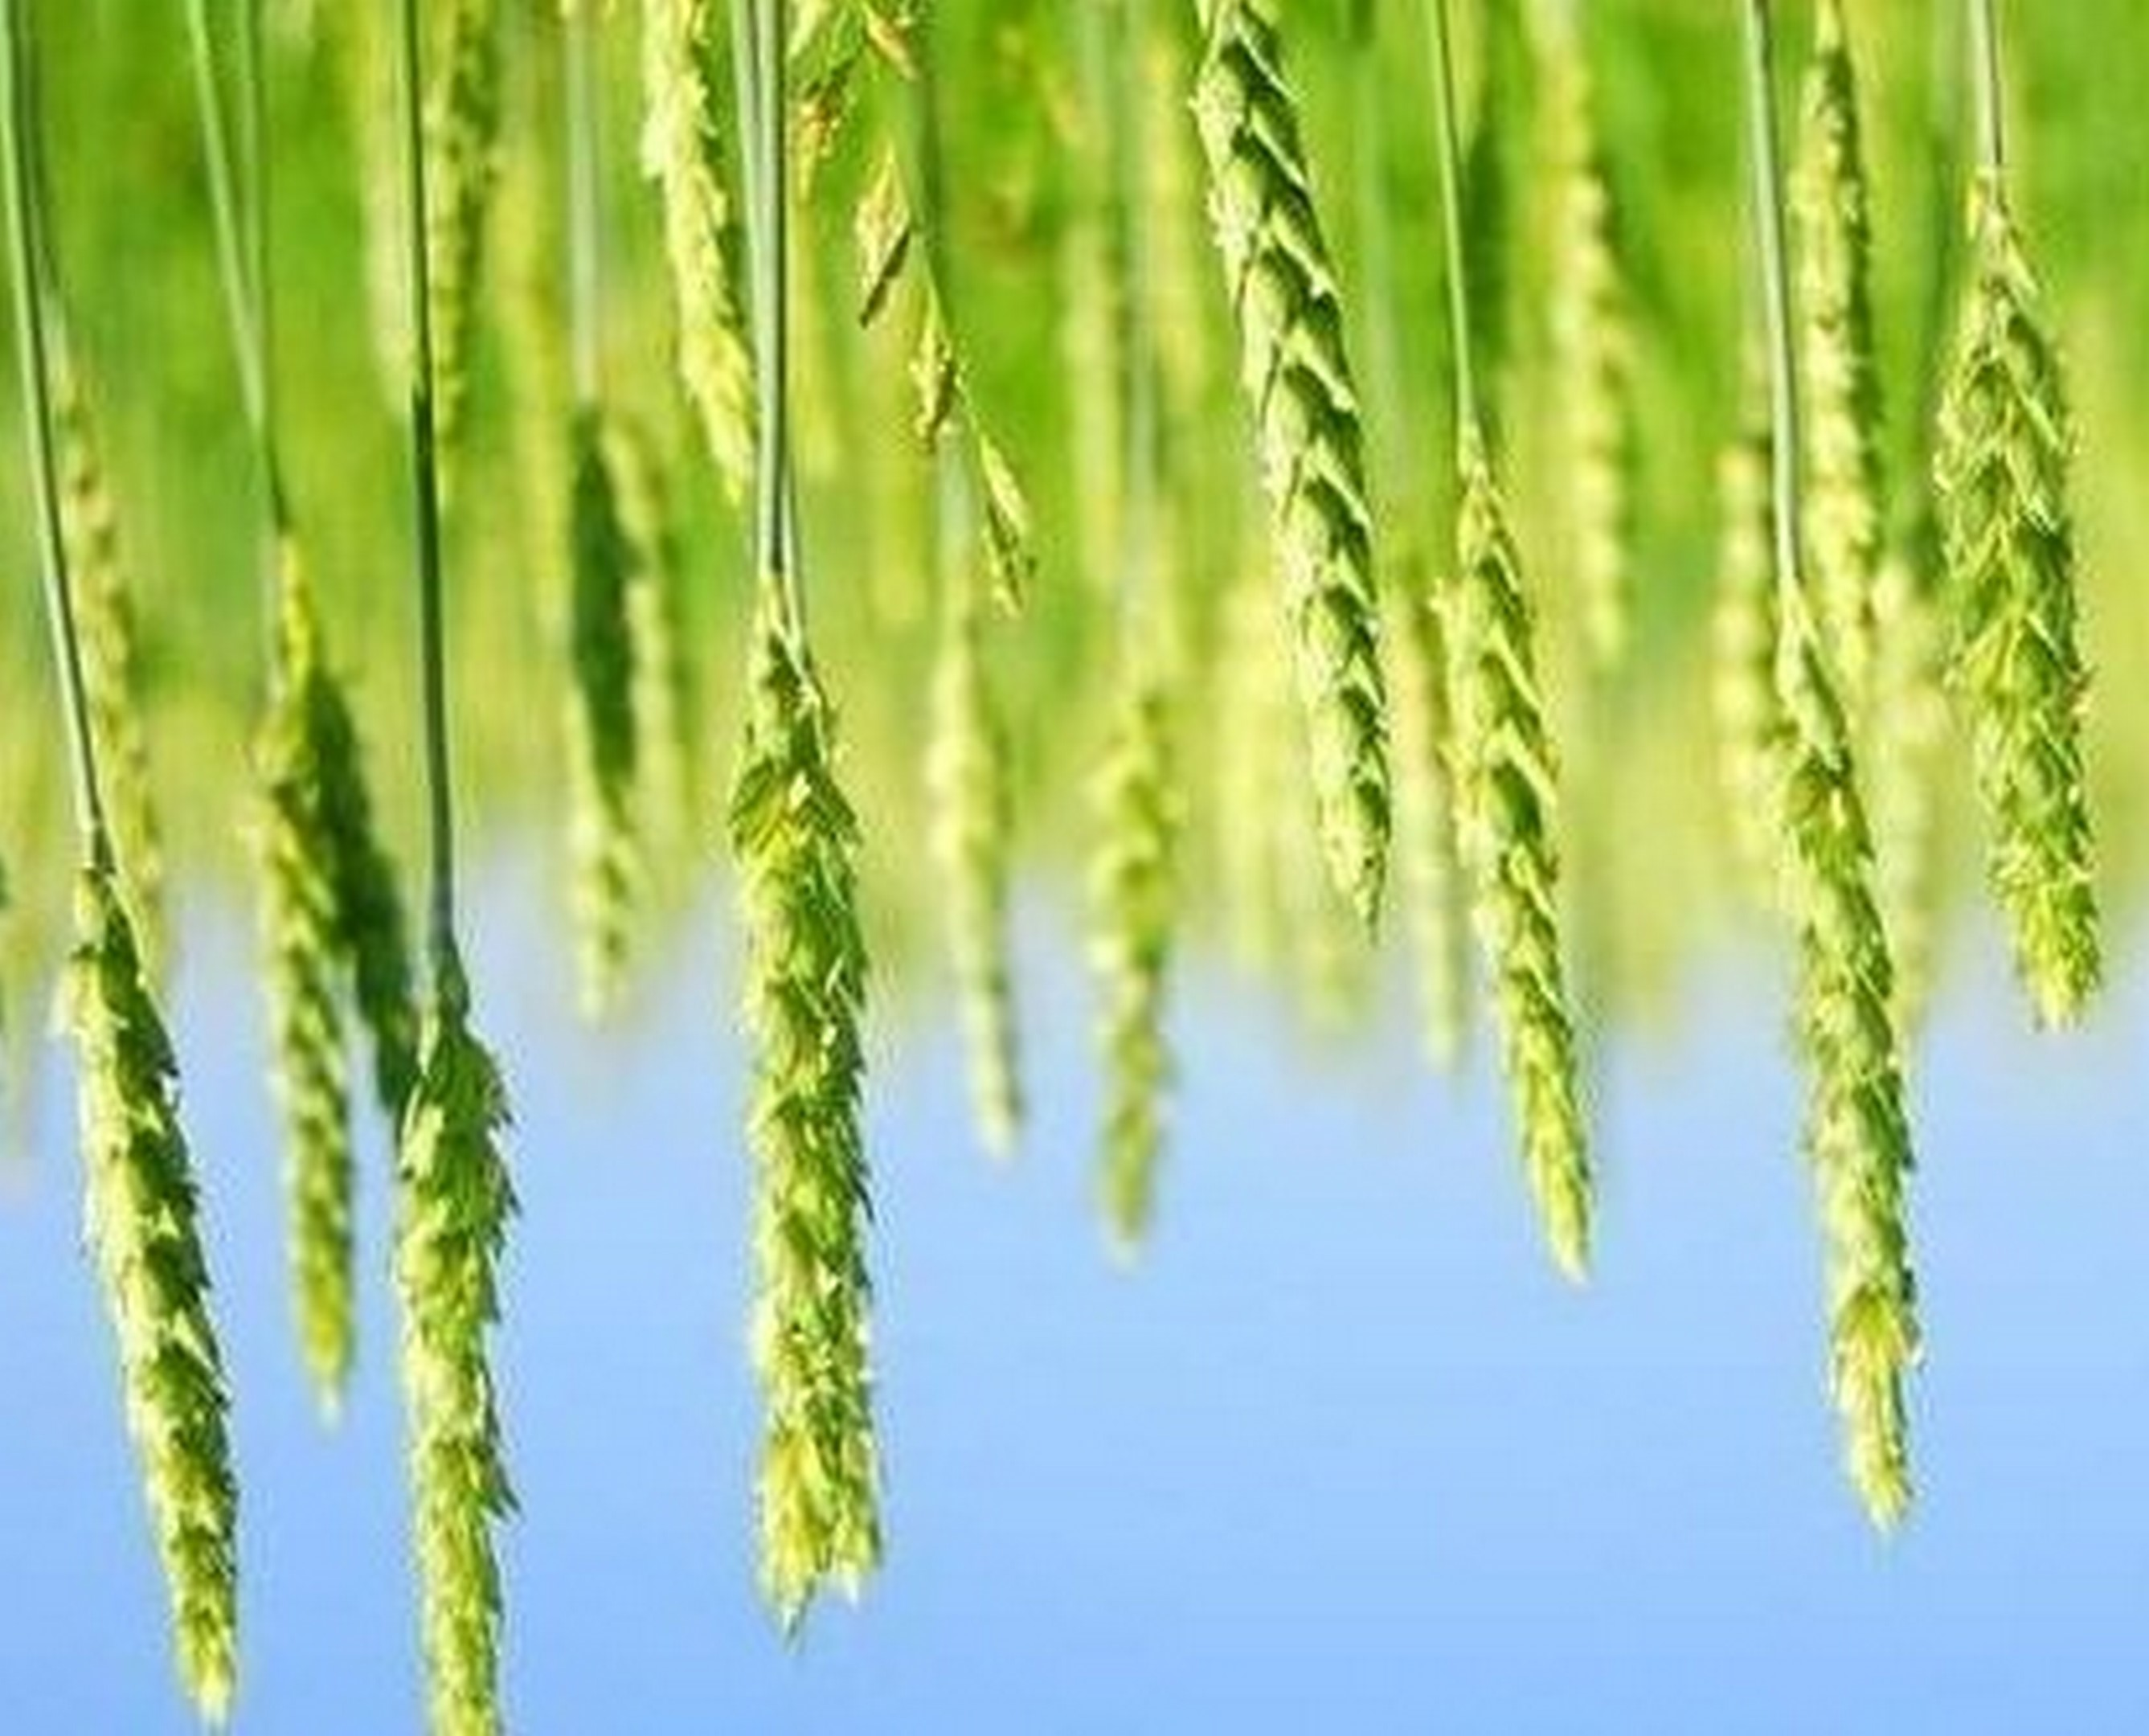Healthy Wheat: (1185, 27, 1401, 932)
